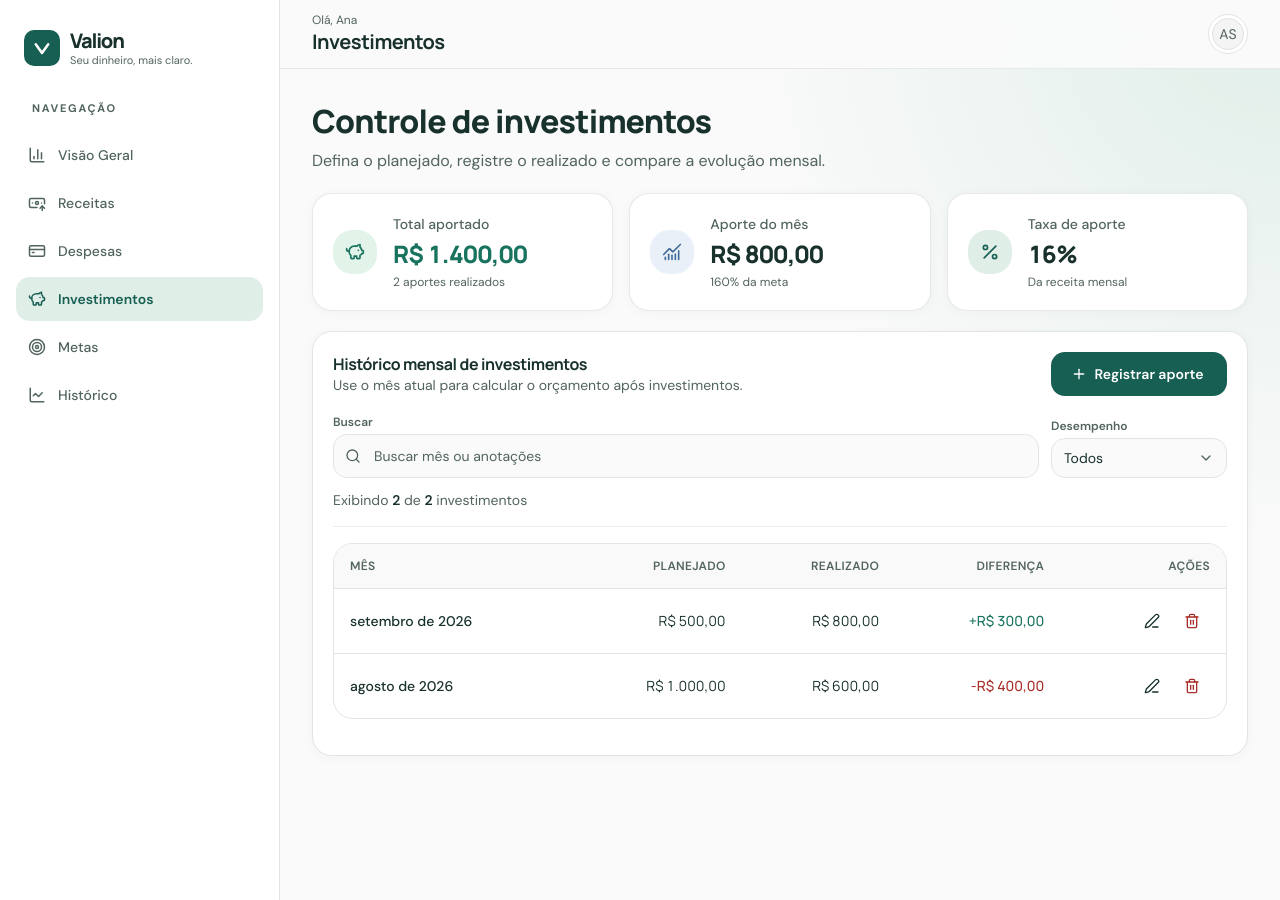
Test: FinanceDashboard › filters investments by performance
Expected: the element named "Registrar aporte" is shown, [312, 331, 1248, 756]
Expected: the button "Registrar aporte" is shown, [1051, 352, 1227, 396]
Click the dropdown named "Desempenho": (1139, 458) [1051, 438, 1227, 478]
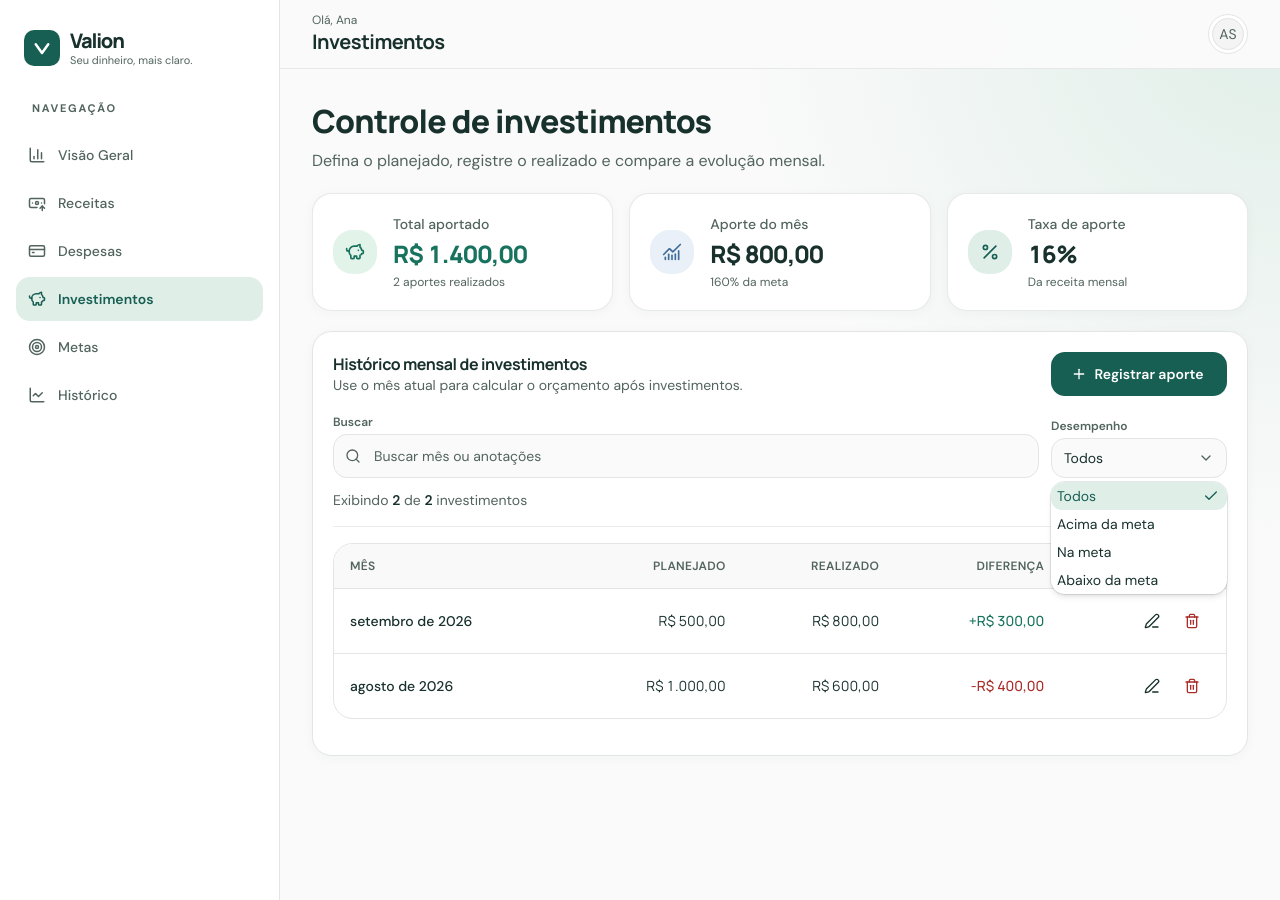
Expected: the option "Acima da meta" is shown
Click the option "Acima da meta": (1106, 524) [1057, 515, 1154, 533]
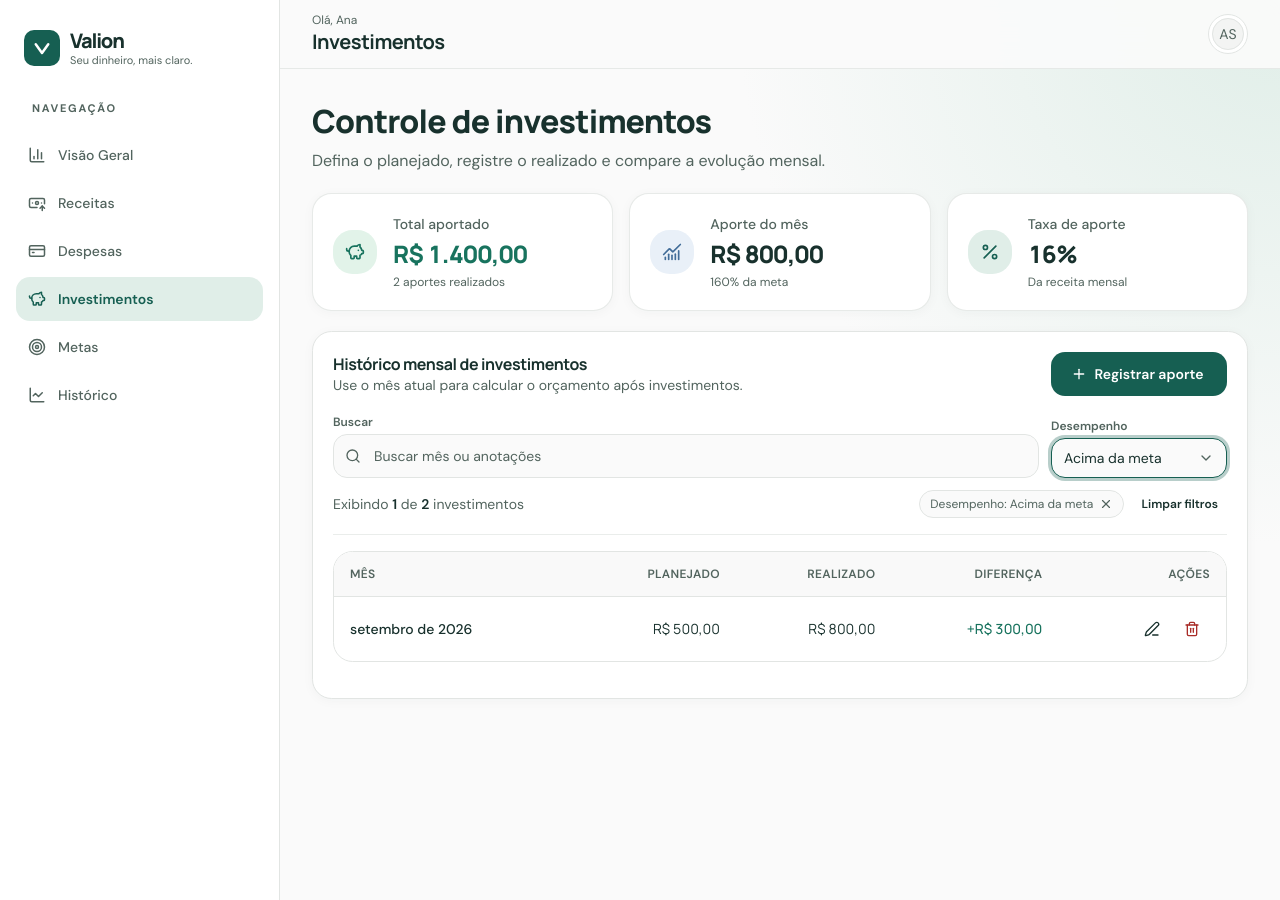
Expected: the text "setembro de 2026" is shown, [350, 620, 472, 638]
Expected: the text "agosto de 2026" is gone
